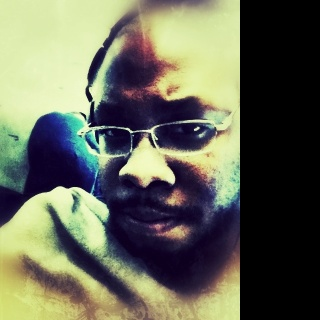without_mask: (75, 0, 240, 252)
